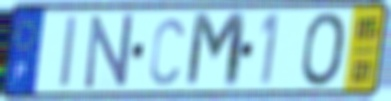1: (258, 11, 280, 90)
C: (147, 15, 187, 88)
I: (58, 13, 80, 91)
M: (183, 10, 249, 92)
N: (83, 11, 135, 92)
O: (299, 10, 349, 90)
